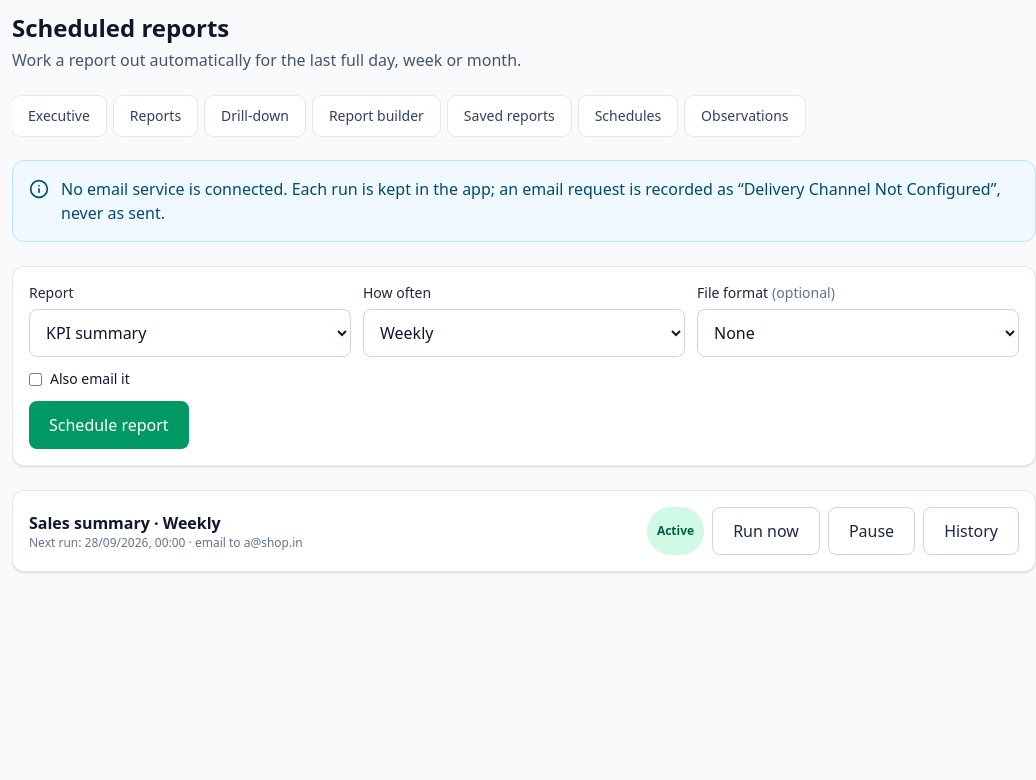
Scenario: scheduled reports › never says an email was sent when no channel is configured
Expected: the text "No email service is connected" is shown, top-left (61, 178), bottom-right (1001, 224)
Click the button "History" at (971,531), box top-left (923, 507), bottom-right (1019, 555)
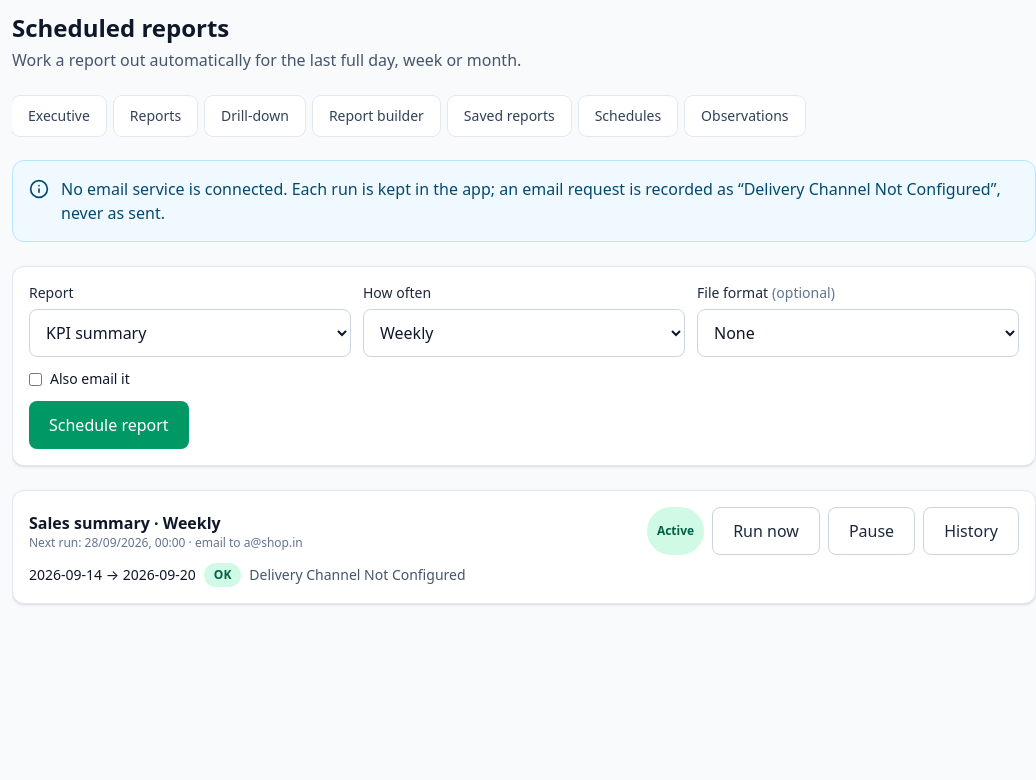
Expected: the text "Delivery Channel Not Configured" is shown, top-left (249, 565), bottom-right (466, 585)
